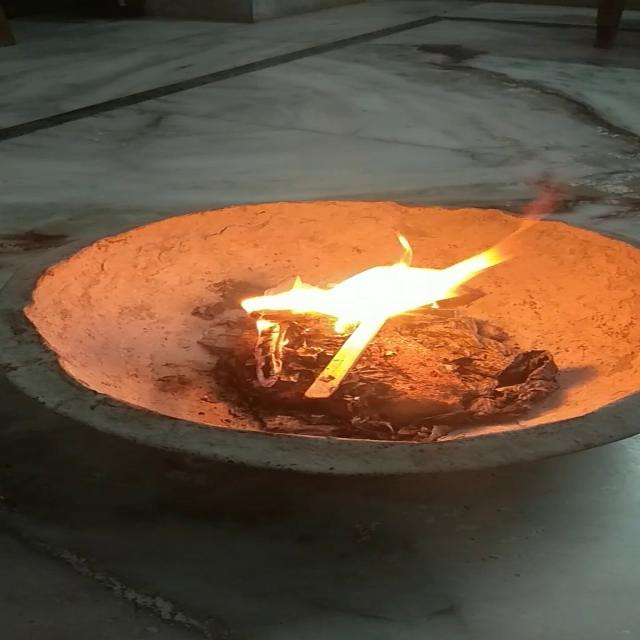fire: (254, 205, 498, 344)
